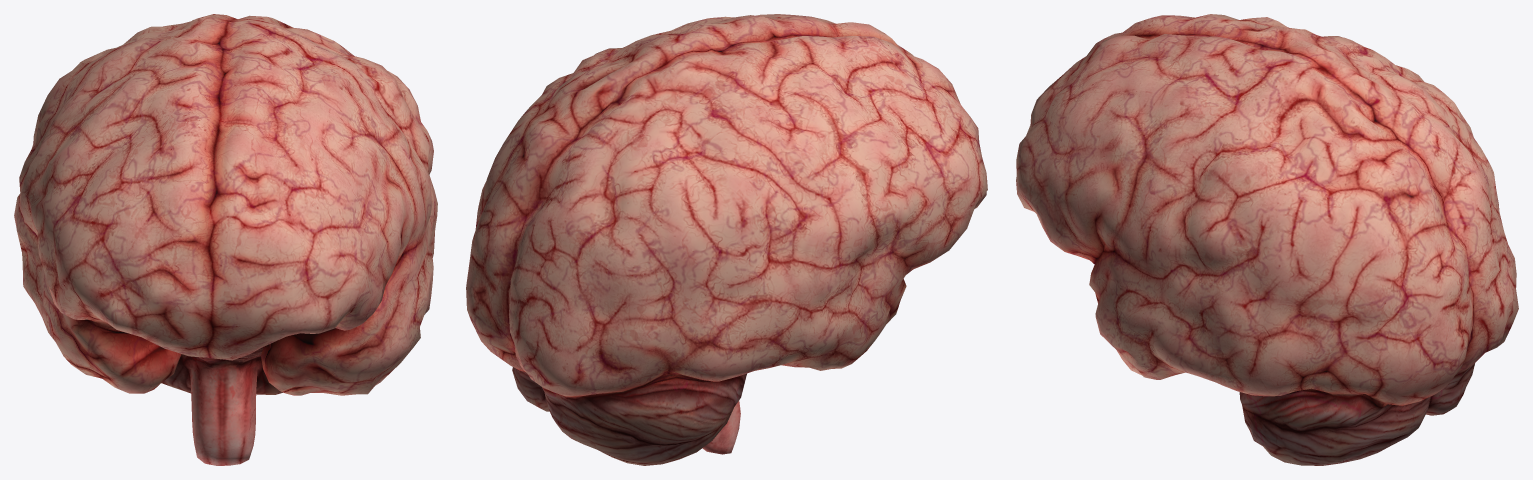
The model's file is Brain.glb.
The picture shows the model from 3 angles, left to right: view 1: azimuth 30°, elevation 25°; view 2: azimuth 150°, elevation 25°; view 3: azimuth 270°, elevation 25°; orthographic projection. The views are drawn at different scales.
Visible parts, largest first — view 1: node_id52; view 2: node_id52; view 3: node_id52.
Part boxes in pixels (<box>): node_id52: <box>14,14,437,465</box>; node_id52: <box>466,14,987,465</box>; node_id52: <box>1016,14,1518,465</box>.
Bounding box in the file's own units: 0.5242 × 0.512 × 0.5833.
Materials: 1 (1 with a texture image).
